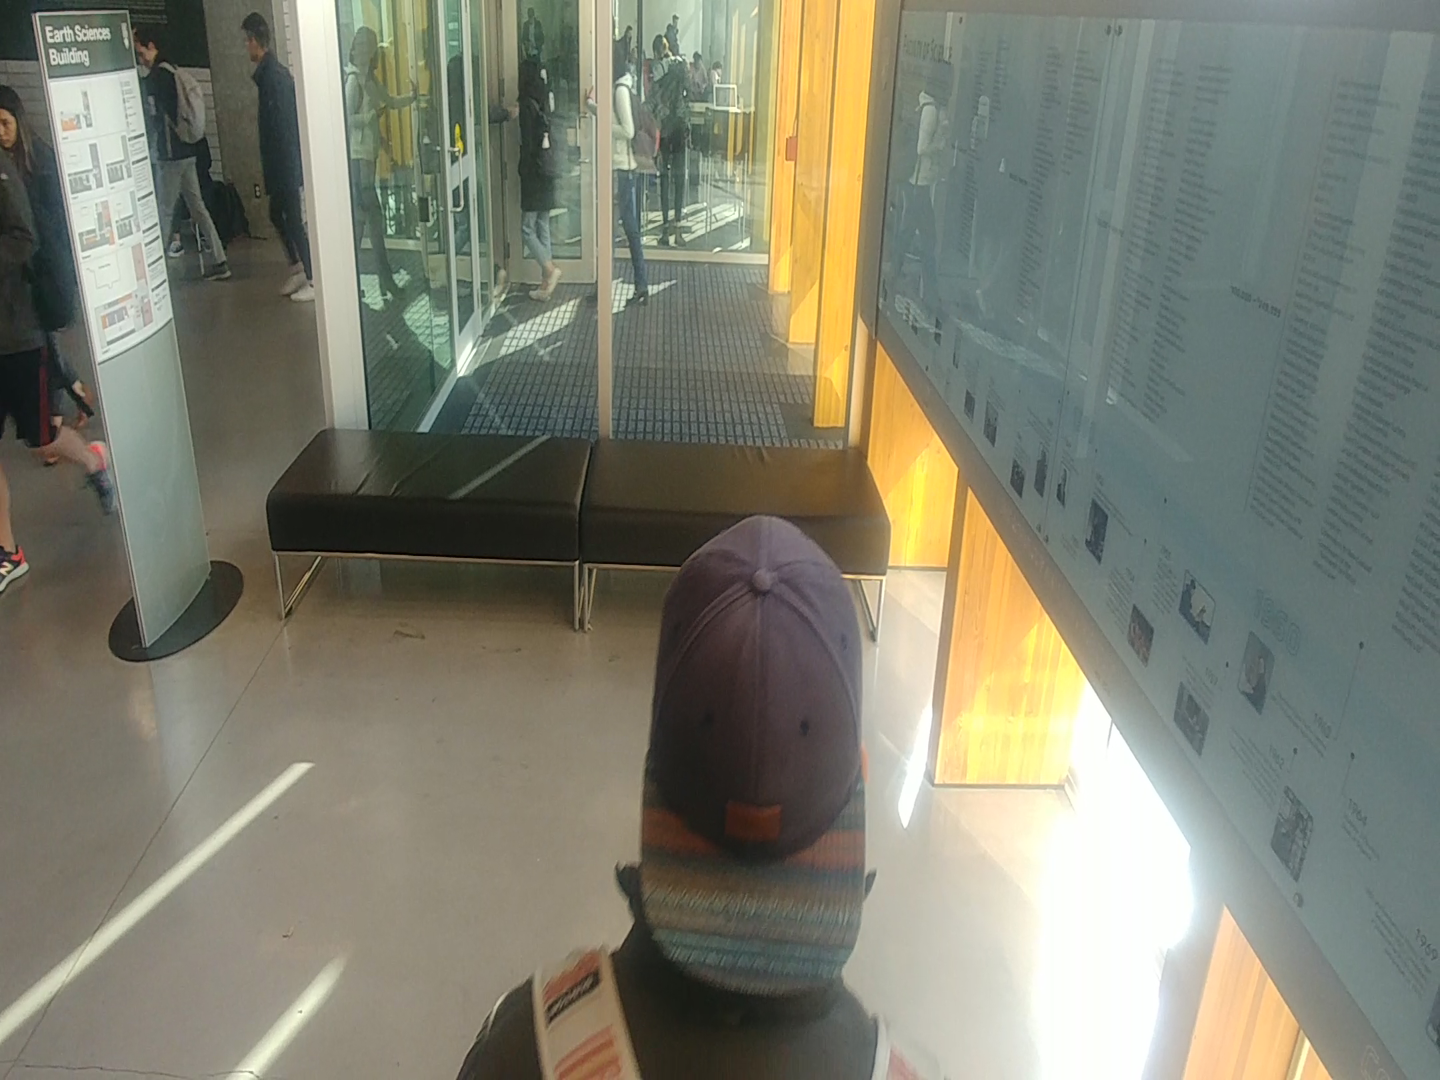face: (584, 500, 905, 1013), (228, 1, 287, 76), (504, 49, 559, 117), (0, 80, 36, 161), (126, 22, 159, 89), (645, 28, 685, 78)
human: (442, 502, 968, 1080), (123, 23, 235, 299), (223, 6, 315, 302), (342, 11, 415, 310), (501, 49, 570, 300), (612, 33, 666, 315), (648, 21, 701, 257)
